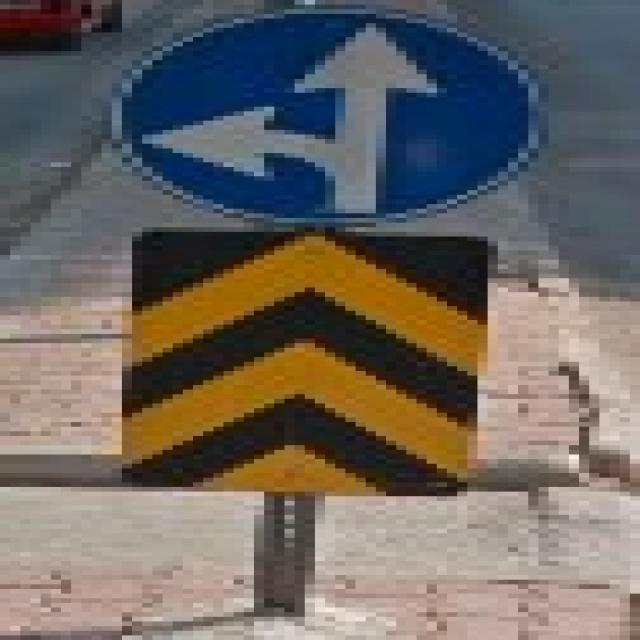Straight or Left: (113, 10, 539, 224)
